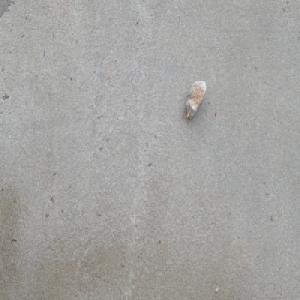Rock: (183, 77, 206, 121)
